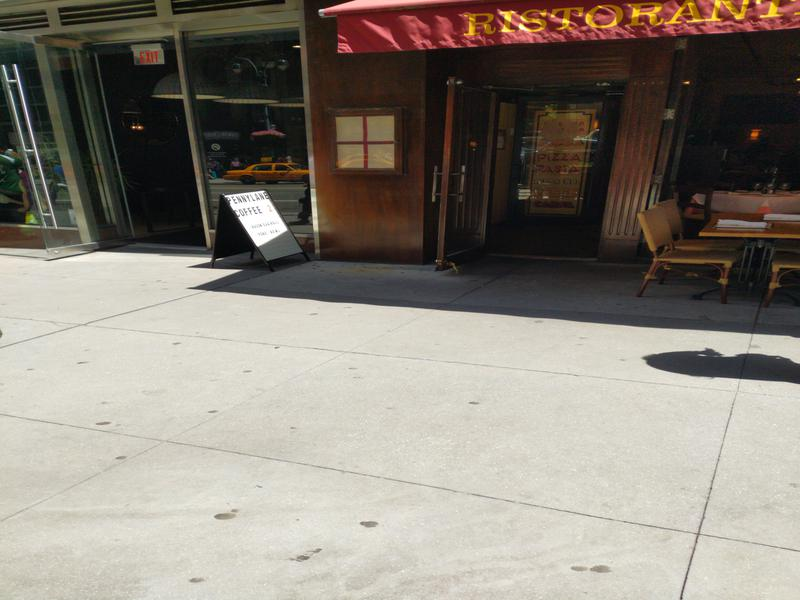door: (3, 49, 138, 257), (431, 73, 499, 276)
